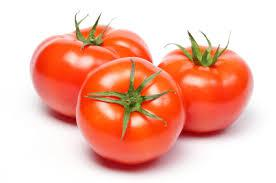tomato: (74, 51, 182, 166), (30, 29, 153, 108), (151, 47, 254, 135)
